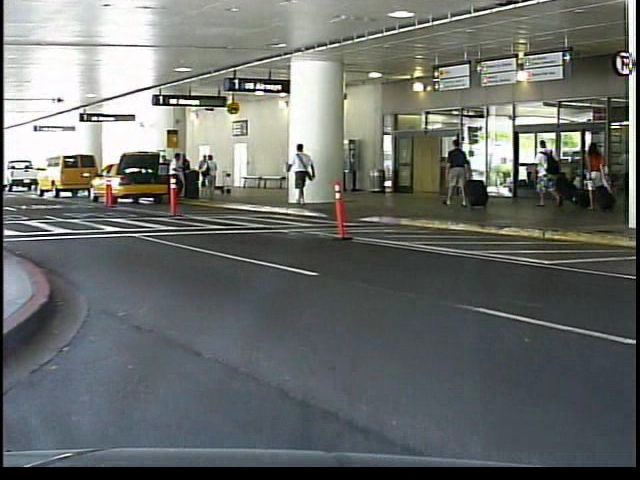person: (531, 138, 568, 217), (583, 133, 615, 220), (445, 135, 475, 210), (289, 140, 321, 210)
